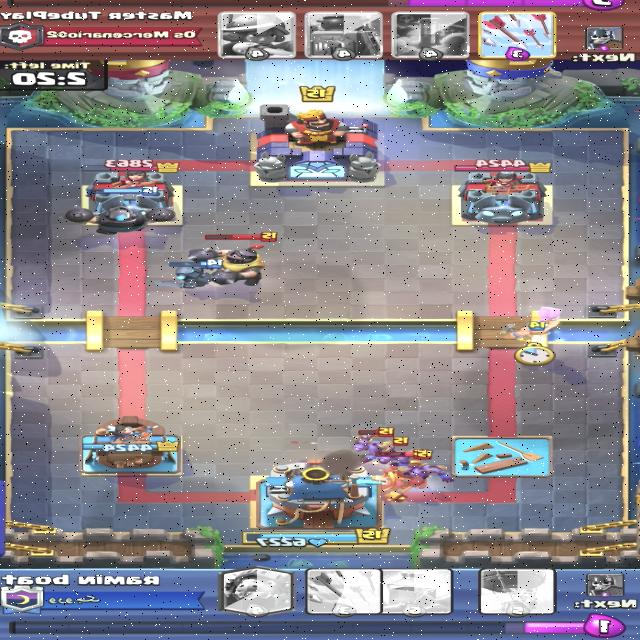Enemy-Hog: (357, 449, 432, 502)
Enemy-MegaKnight: (188, 231, 278, 289)
Enemy-Minion: (399, 450, 451, 482), (349, 427, 397, 459), (374, 436, 410, 465)
Player-MegaKnight: (62, 186, 176, 236)
Player-MiniPEKKA: (152, 259, 234, 291)
